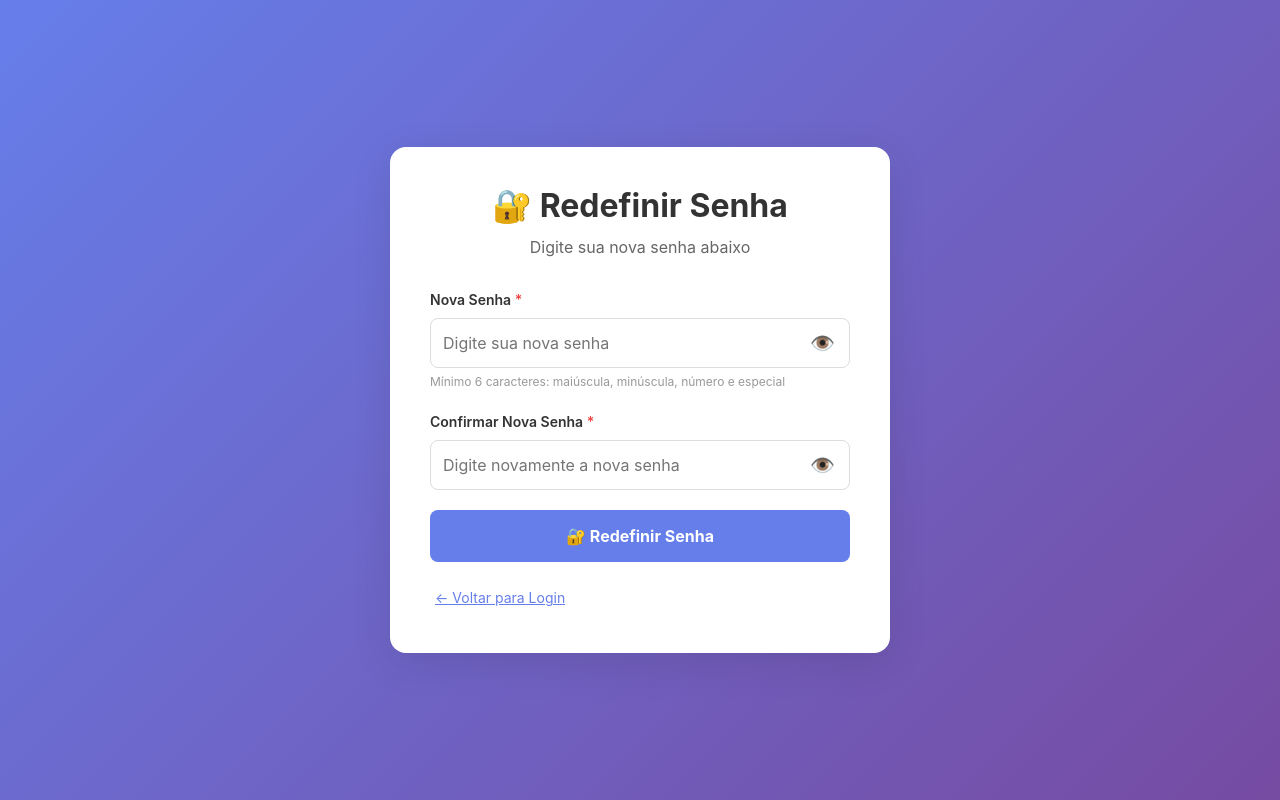
ResetPassword (público) › rejeita senhas diferentes
Type "Senha@123" into the password field with placeholder "Digite sua nova senha" at (640, 343), box [430,318,850,368]
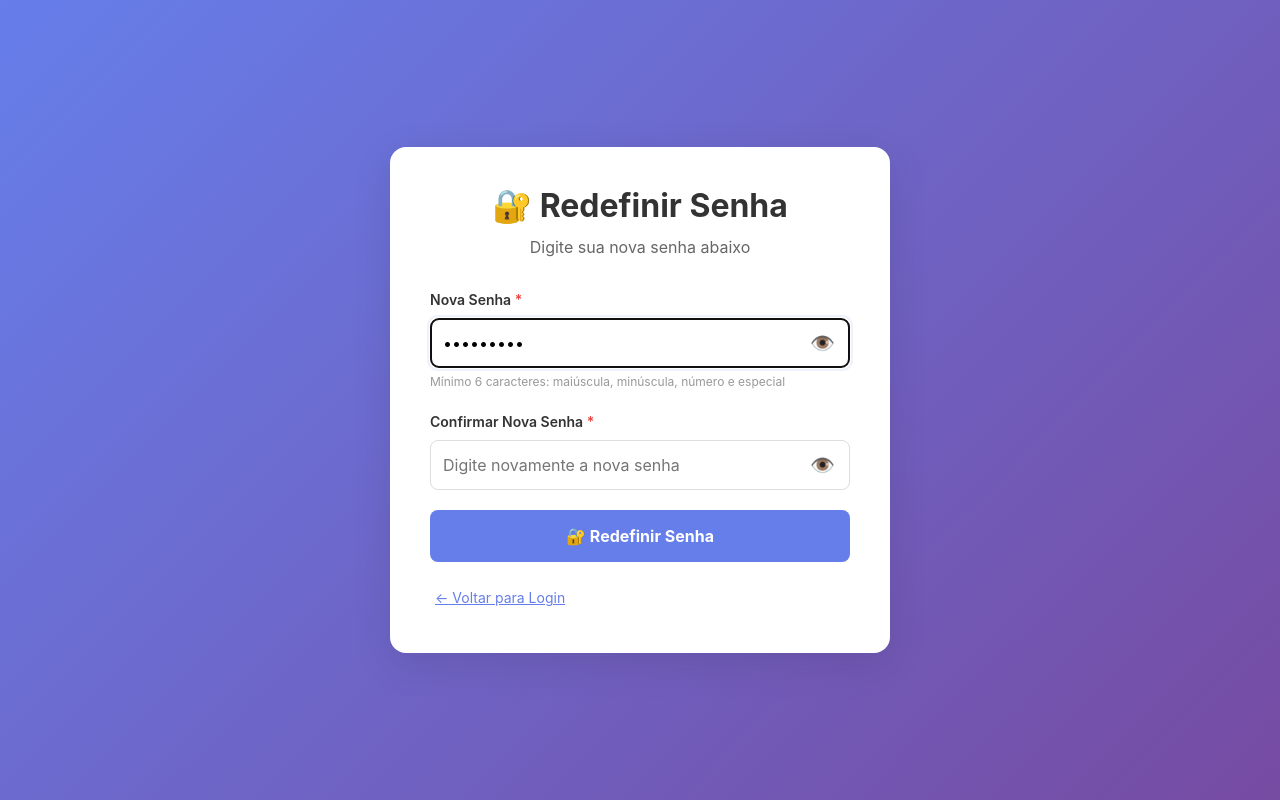
Type "Senha@124" into the password field with placeholder "Digite novamente a nova senha" at (640, 465), box [430,440,850,490]
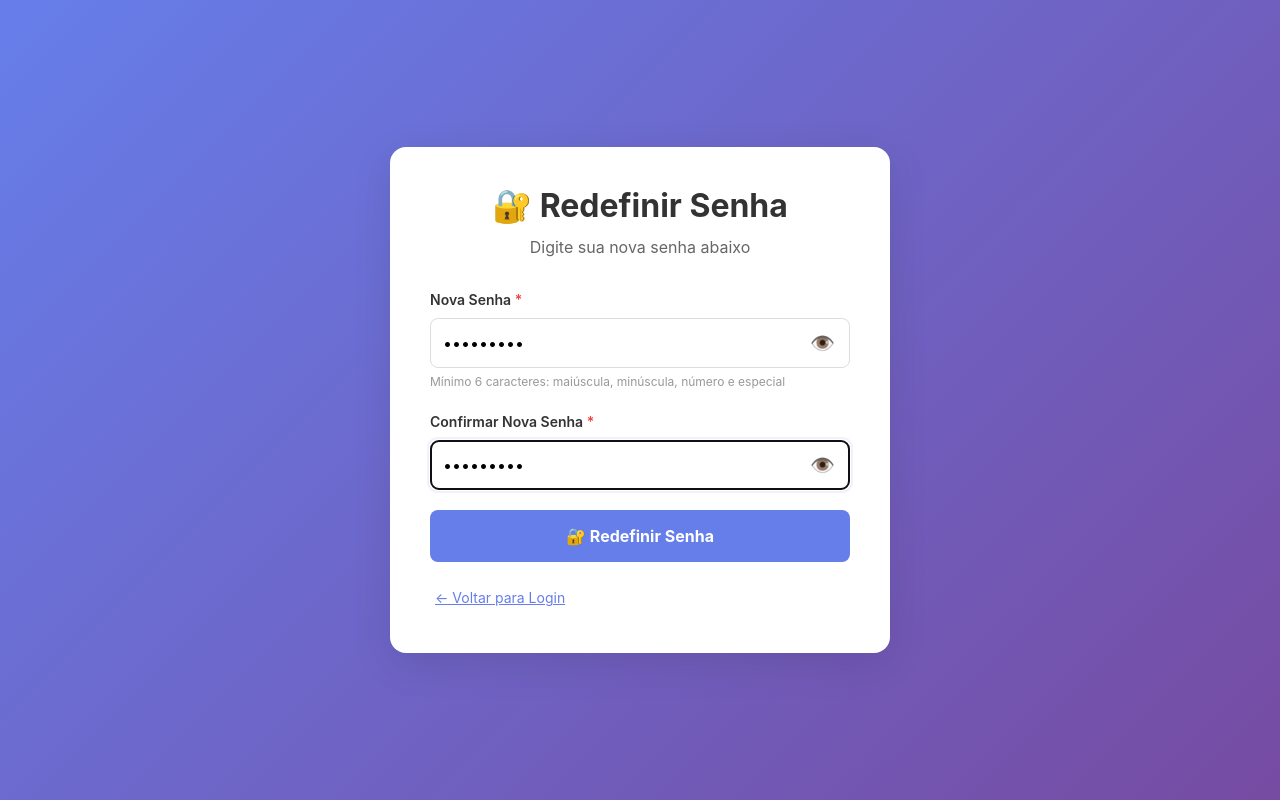
Click the button "🔐 Redefinir Senha" at (640, 536), box [430,510,850,562]
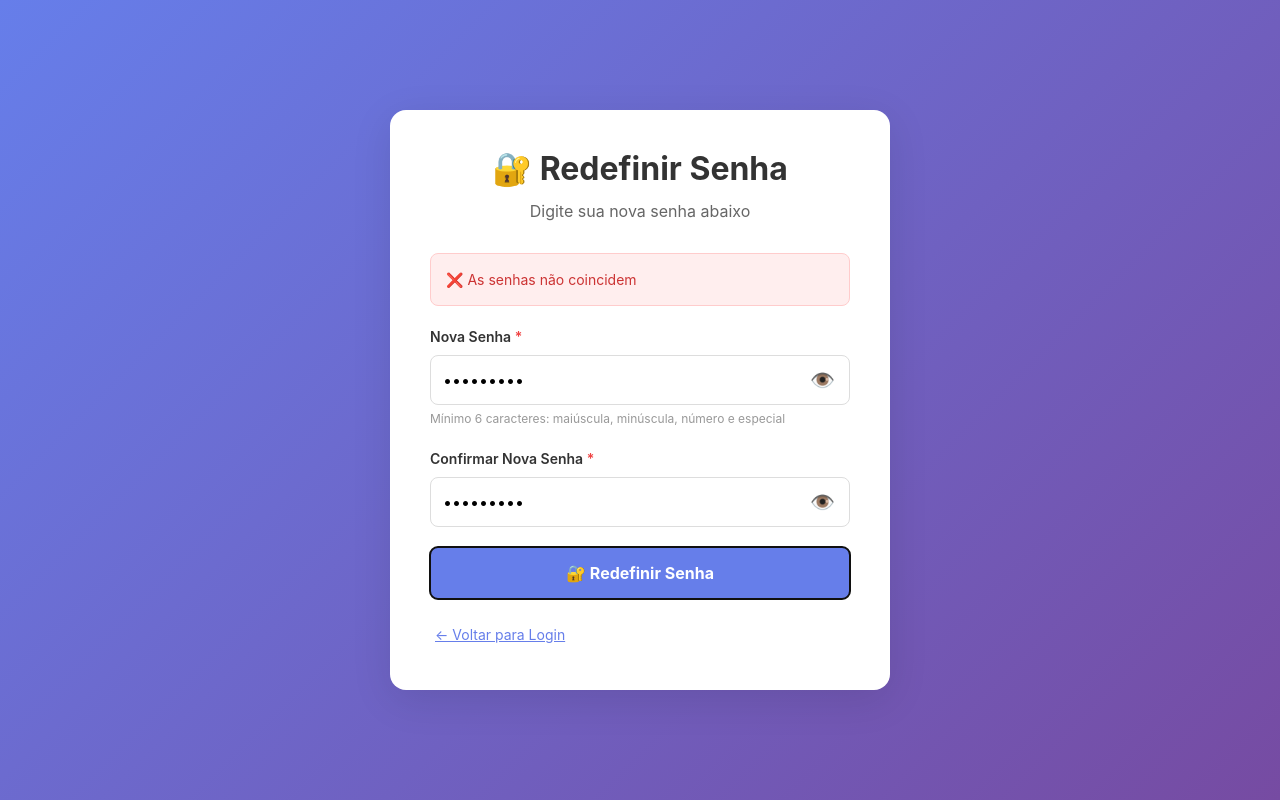
Check: the text "❌ As senhas não coincidem" is shown, box [430,253,850,306]
